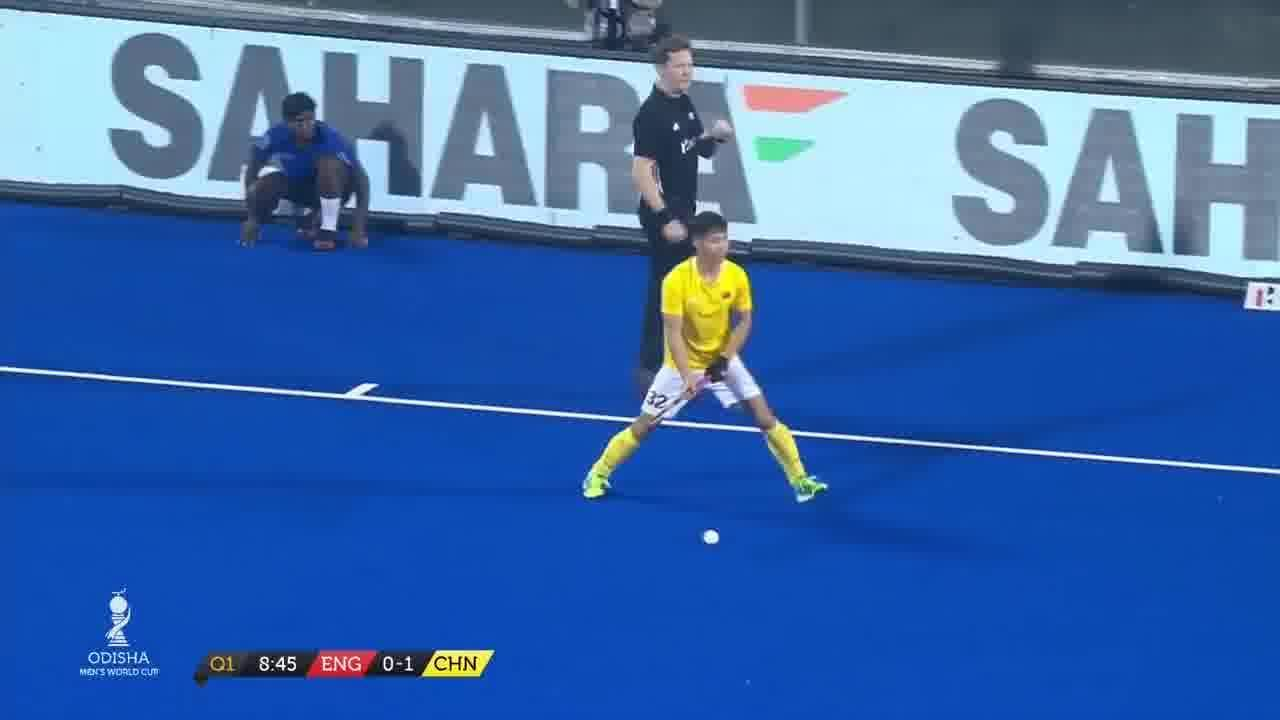ball: (694, 521, 724, 554)
